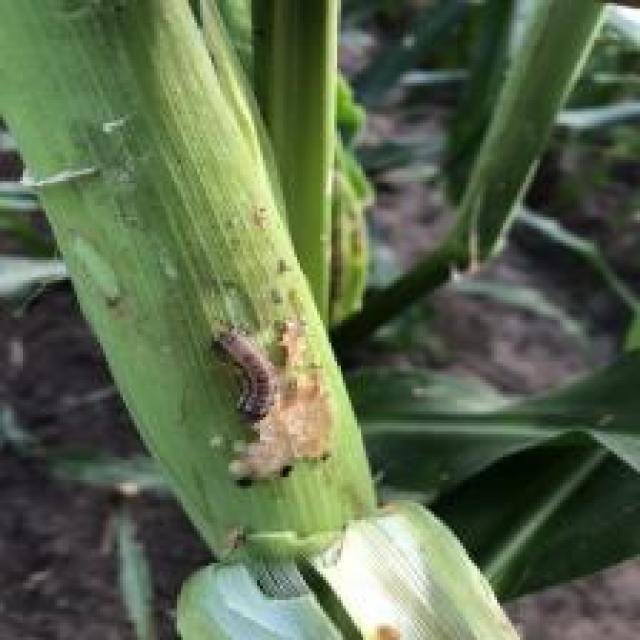Plaga: (207, 312, 278, 447)
